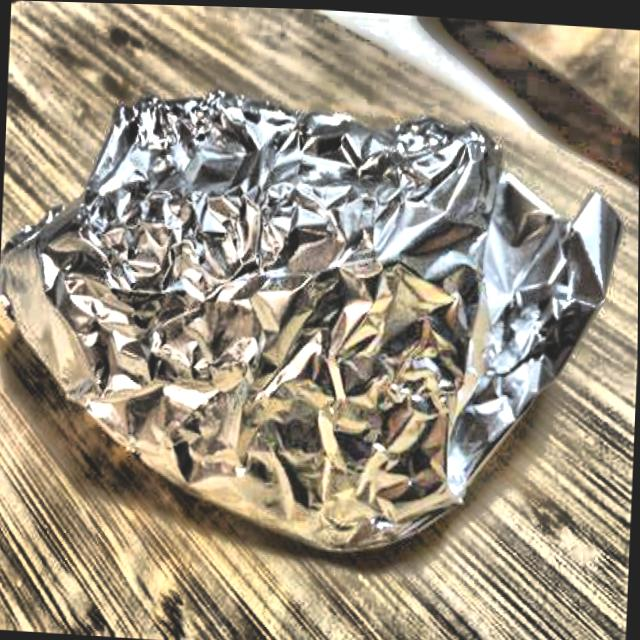Foil: (0, 51, 640, 582)
